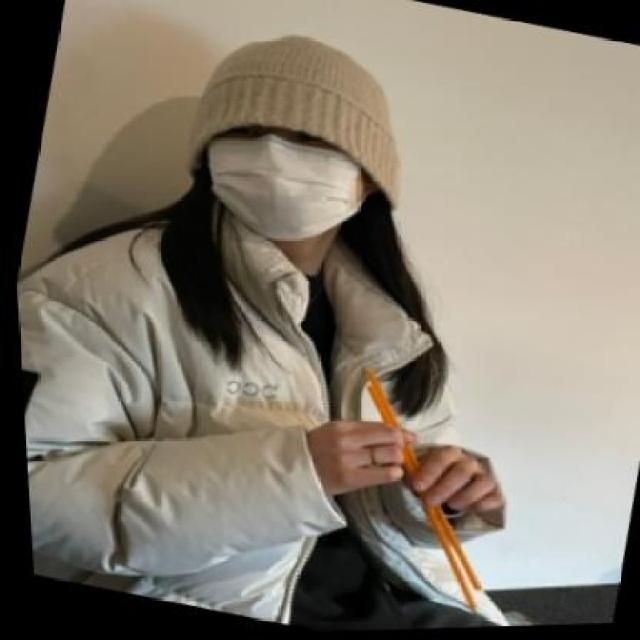hat: (180, 12, 432, 211)
